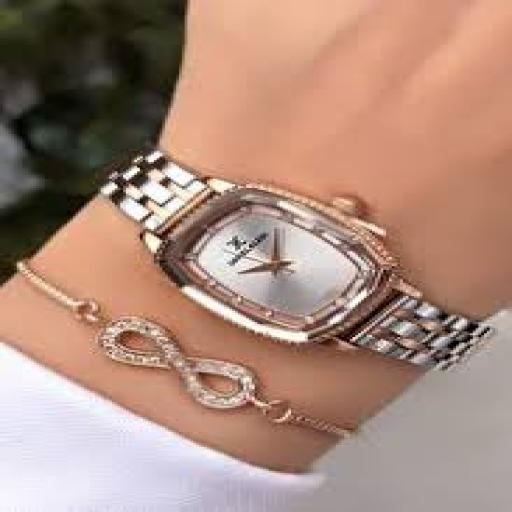KolSaati: (85, 84, 499, 386)
